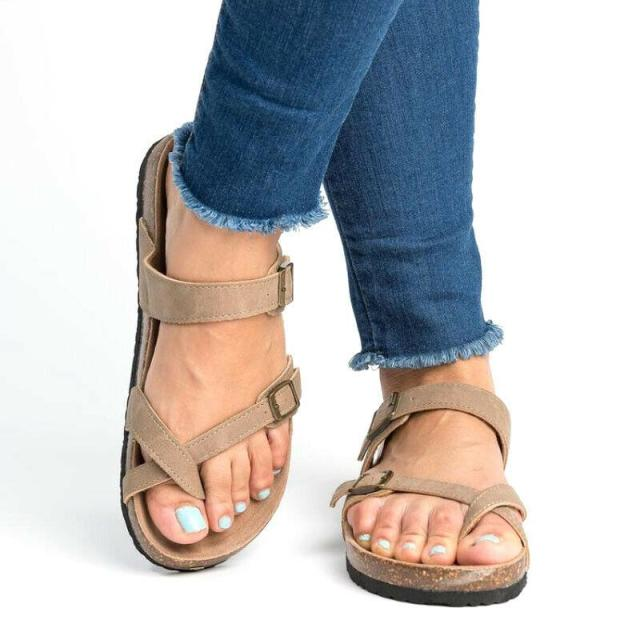Sandals: (119, 120, 307, 571), (340, 336, 533, 605)
